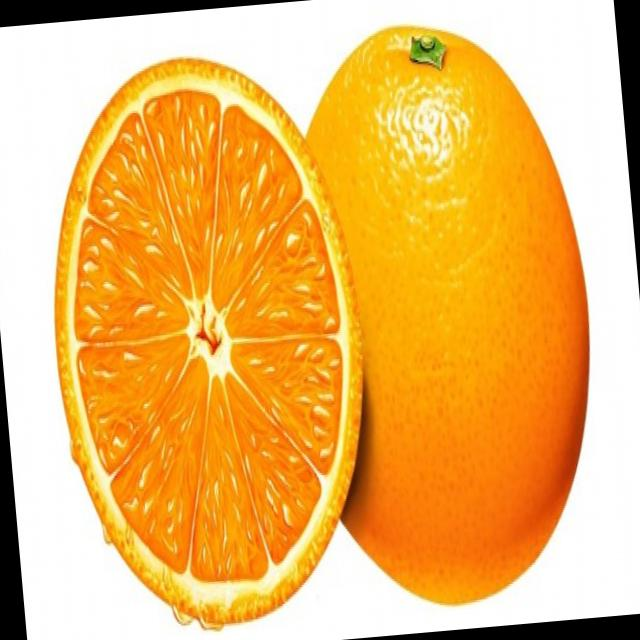orange: (264, 7, 610, 636)
